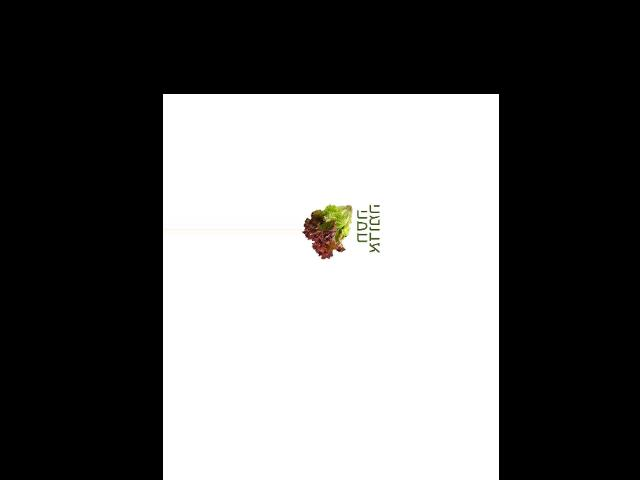lettuce: (302, 199, 354, 260)
